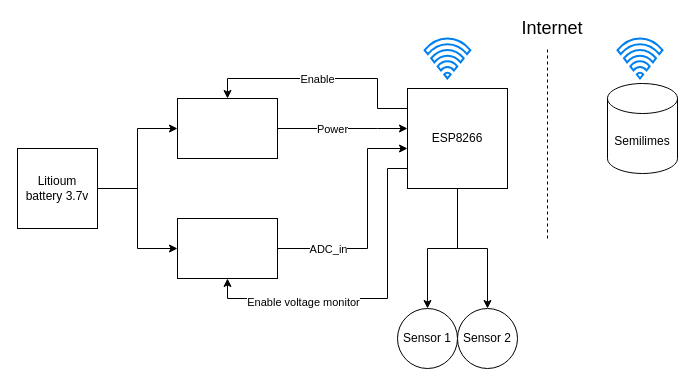
Some shapes in this 695 by 386 pixel diagram are drawn without their labels. The shapes that lost their labels are listed below. From the top down, each one's box as (x1, y1, x2, y2) in pixels, then its label:
(176, 98, 278, 158): Voltage regulator 3.3v
(176, 218, 278, 278): Voltage monitor
